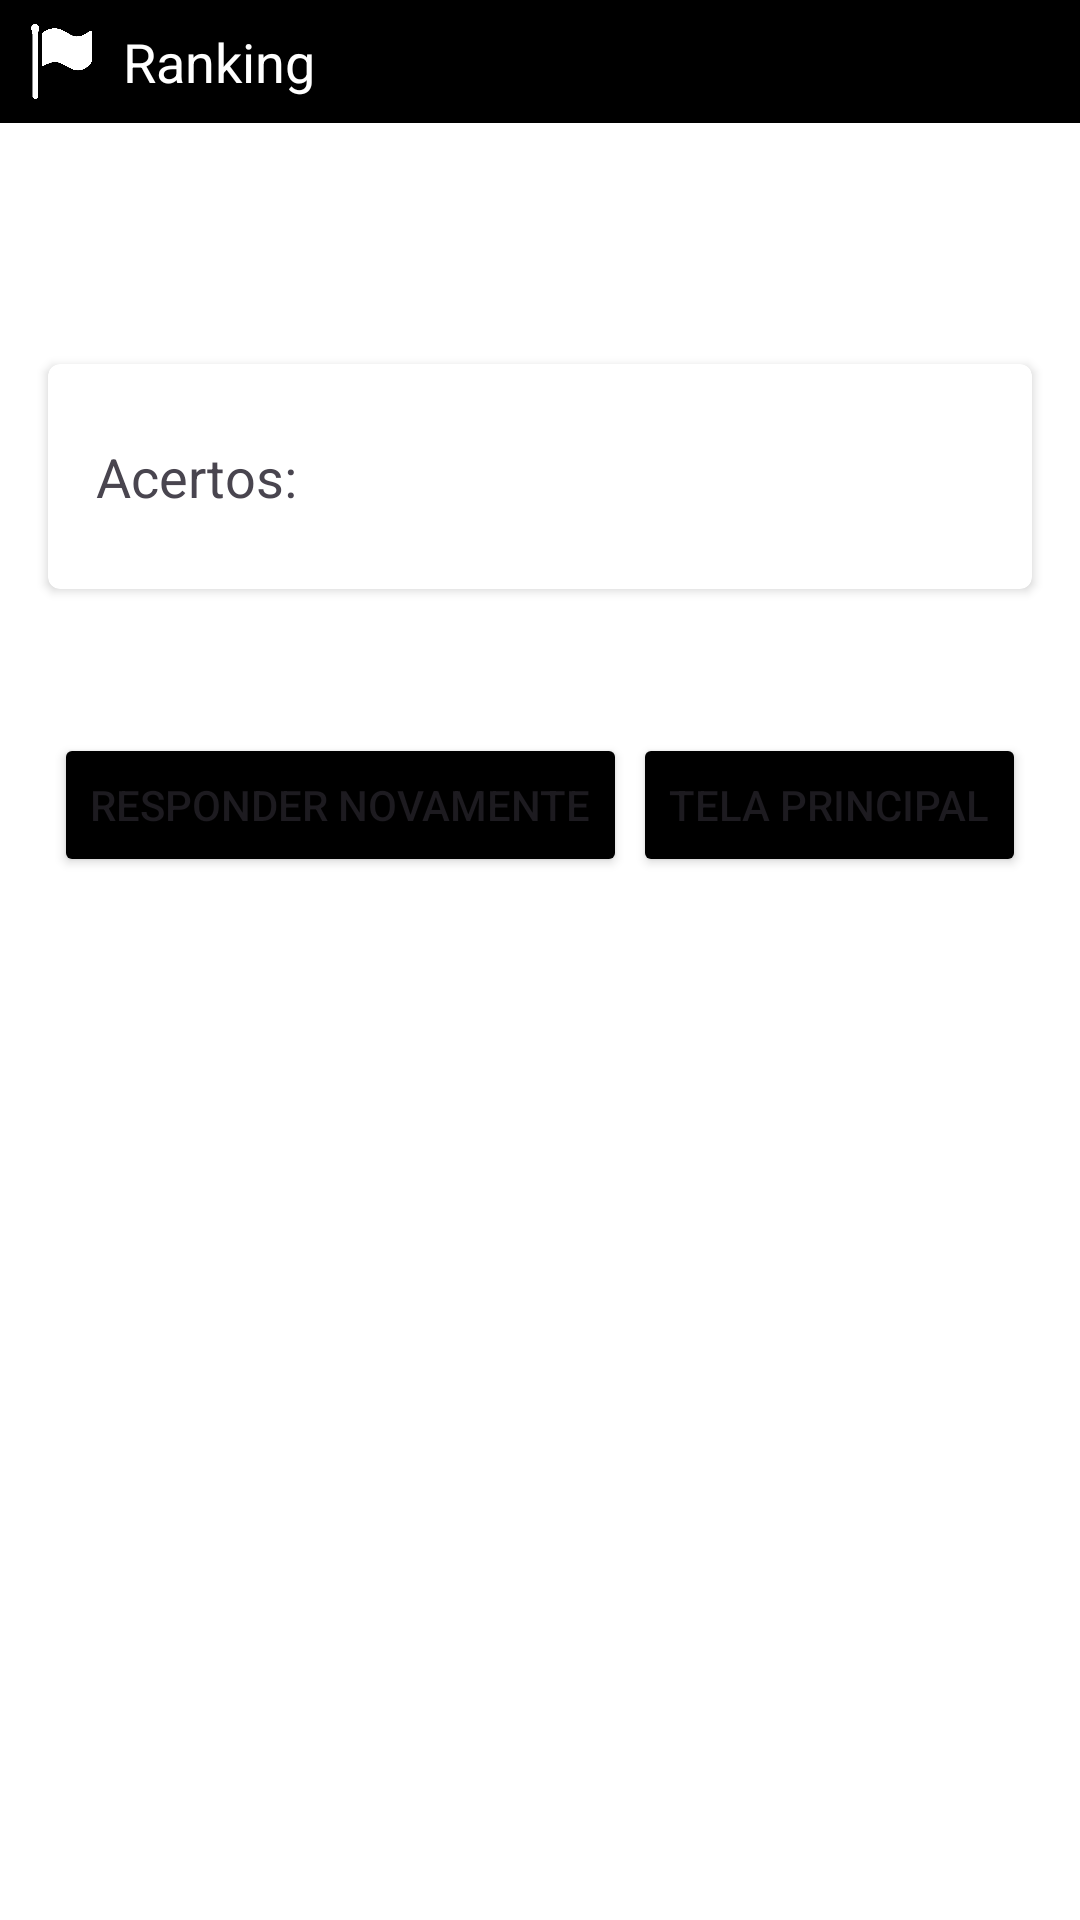

Named icons in this screenshot (1080x1920) and their bounding boxes, (x1, y1, x2, y2):
Icone minimalista de uma bandeira branca: (31, 24, 92, 99)
